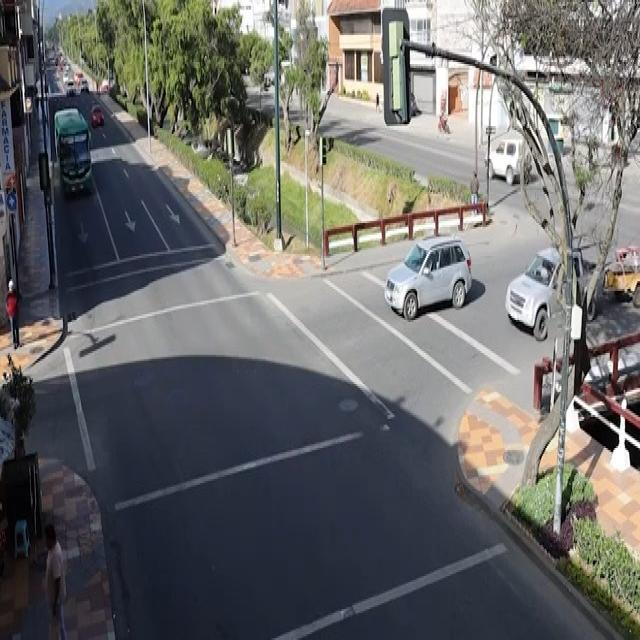BUS: (56, 112, 92, 194)
CMT: (506, 248, 604, 343)
